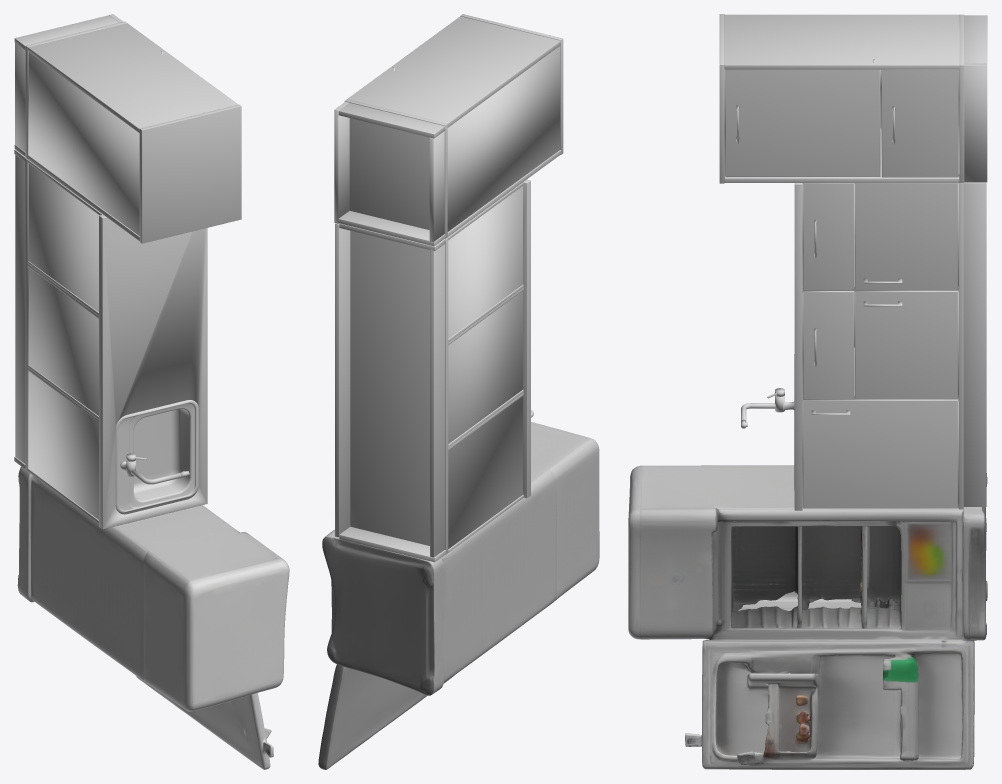
Rendered from inria_fridge_open_and_full_kitchen_centered_apriltag.obj.
3 renders of one model, left to right at view 1: azimuth 30°, elevation 25°; view 2: azimuth 150°, elevation 25°; view 3: azimuth 270°, elevation 25°, orthographic. The views are drawn at different scales.
Size of the model in its own units: 0.8579 by 3.85 by 1.8.
2 materials, 1 textured.
